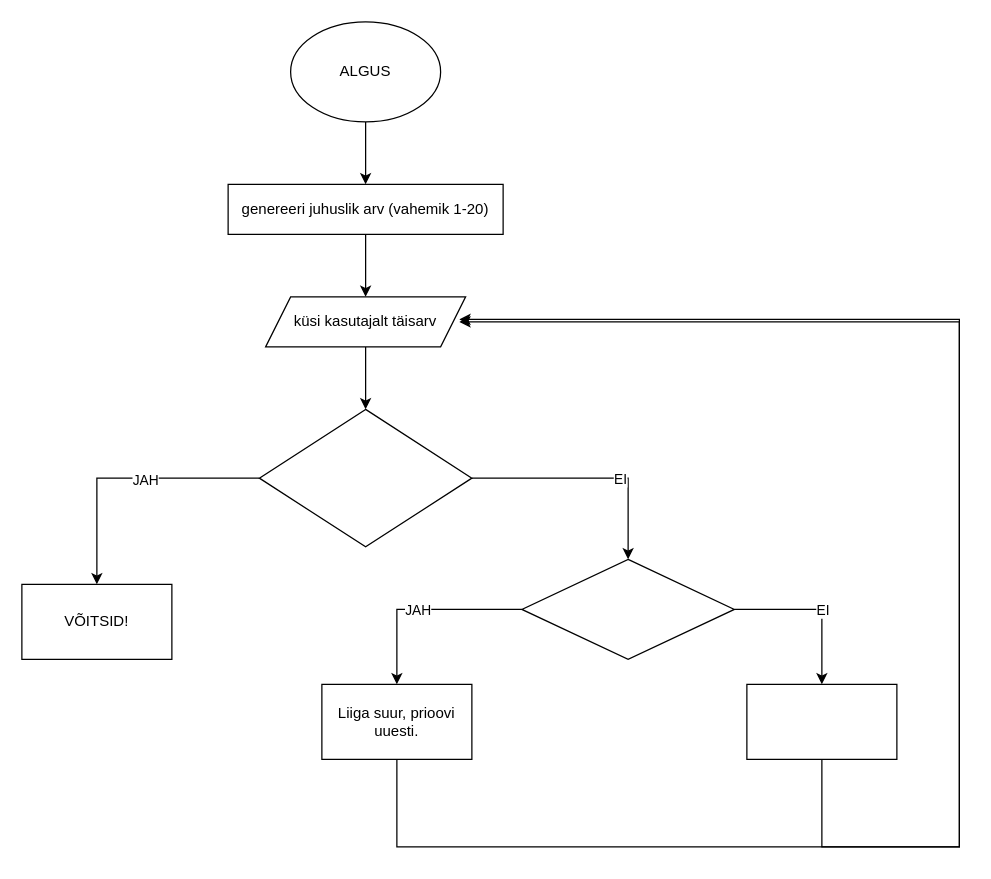
The diagram is 991 pixels wide and 879 high, and some of its shapes have lost their labels. The centre of each missing label's shape, as x and y in pixels:
Kas sisestatud arv on sama, mille genereerisin?: pixel 365 477
Kas sisestatud arv on suurem?: pixel 627 608
Liiga väike, proovi uuesti.: pixel 821 721
